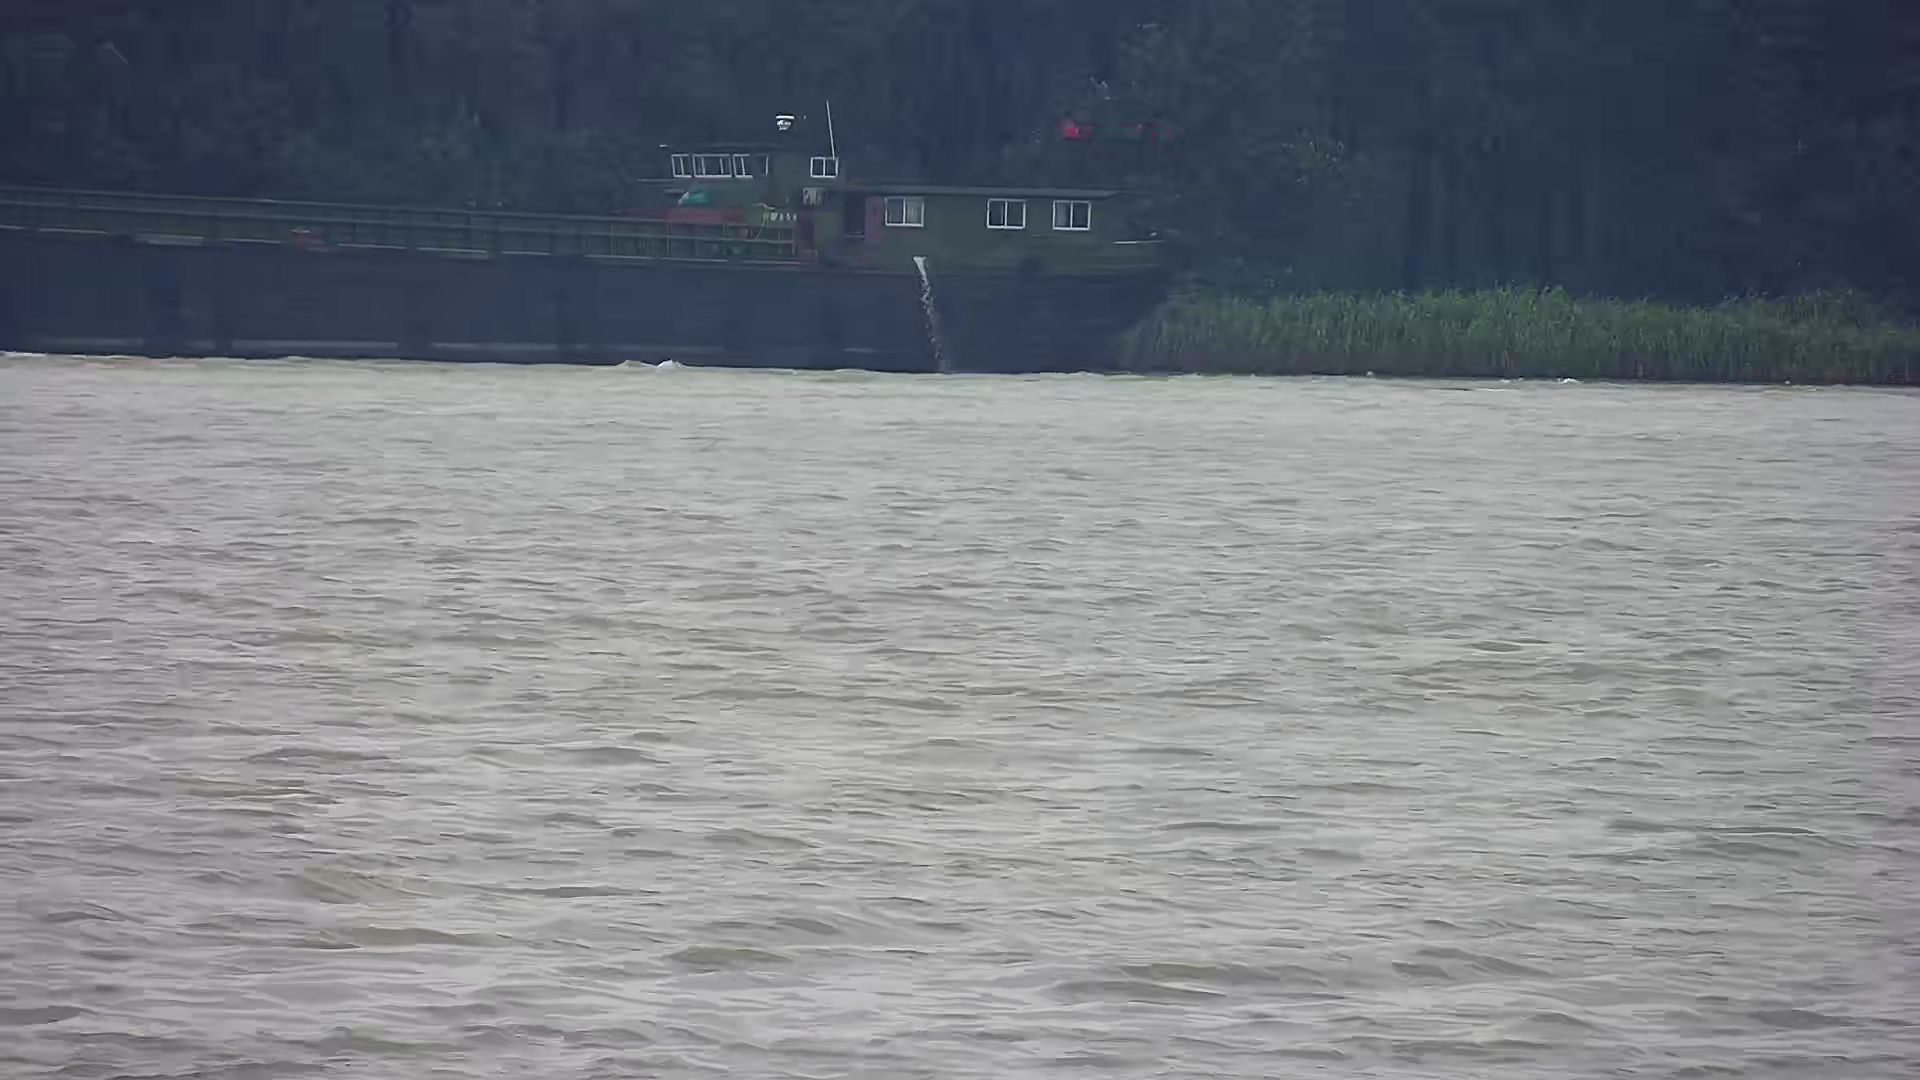ship: (8, 80, 1189, 392)
